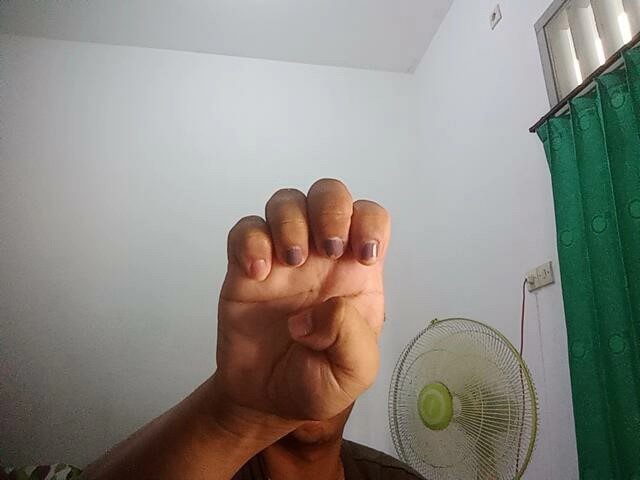E: (195, 169, 394, 425)
